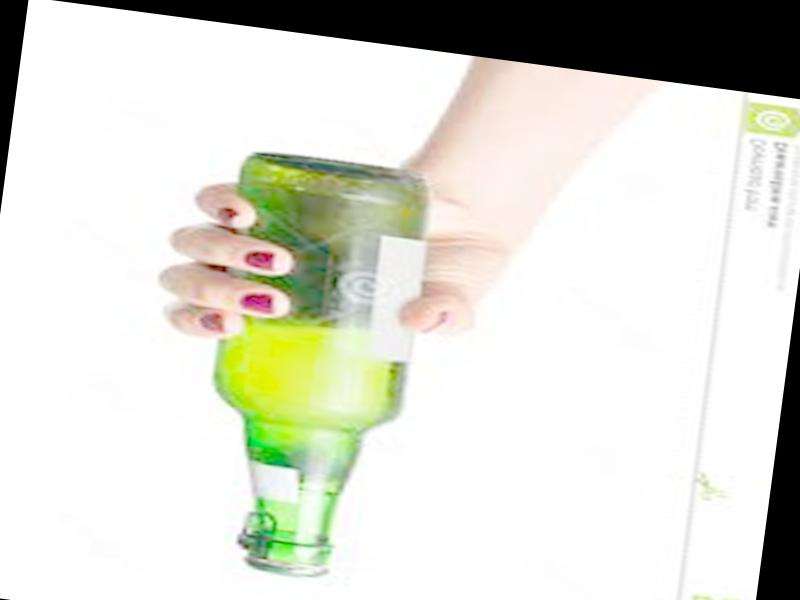Beer: (188, 147, 440, 591)
